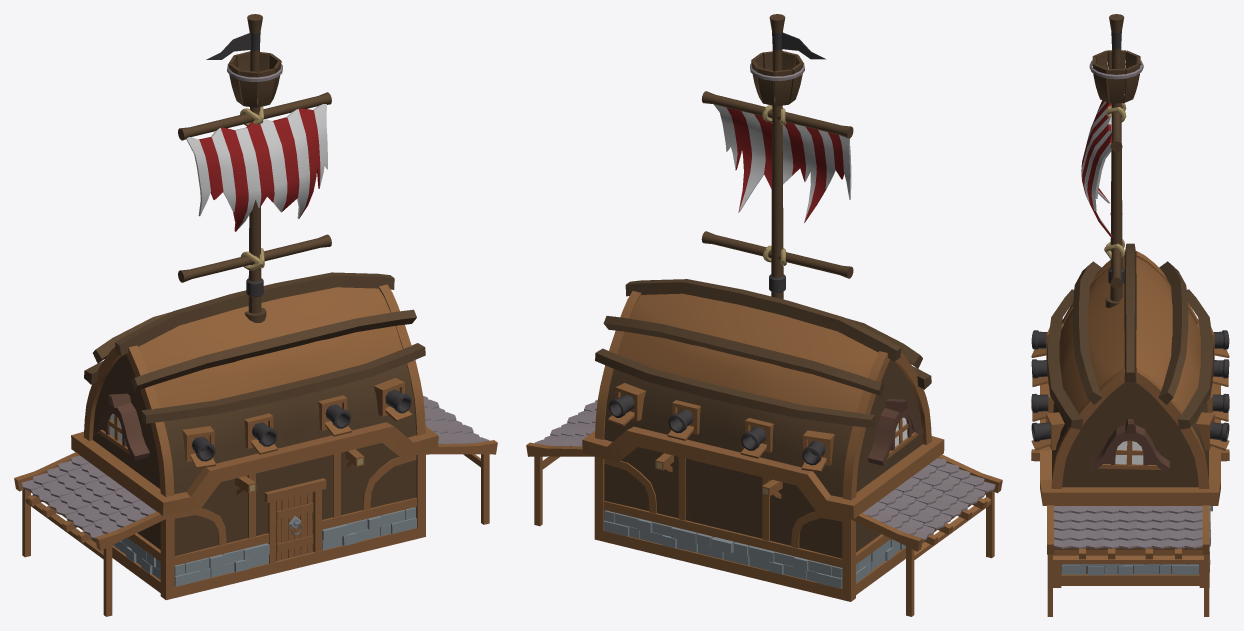
The model's file is house.glb.
The picture shows the model from 3 angles, left to right: view 1: azimuth 30°, elevation 25°; view 2: azimuth 150°, elevation 25°; view 3: azimuth 270°, elevation 25°; orthographic projection. The views are drawn at different scales.
Visible parts, largest first — view 1: Environment_House3; view 2: Environment_House3; view 3: Environment_House3.
Boxes of the visible parts, bbox=[...] form: Environment_House3: bbox=[14, 14, 497, 616]; Environment_House3: bbox=[526, 14, 1002, 616]; Environment_House3: bbox=[1031, 14, 1229, 616].
Bounding box in the file's own units: 8.46 × 10.64 × 3.78.
2 materials, 1 textured.
